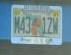1: (41, 16, 46, 34)
3: (26, 15, 30, 34)
4: (20, 16, 25, 34)
M: (14, 15, 20, 34)
W: (53, 16, 58, 35)
Z: (47, 16, 53, 34)
